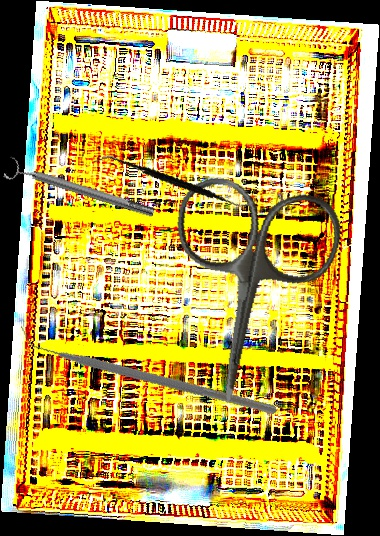Chopper: (20, 261, 278, 477)
Fixation Ring: (2, 153, 158, 227)
Iris Scissors: (144, 171, 349, 418)
Spatula Surgical: (93, 125, 255, 240)
